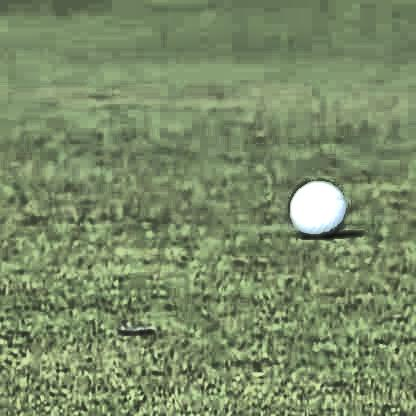golfball: (287, 173, 341, 232)
